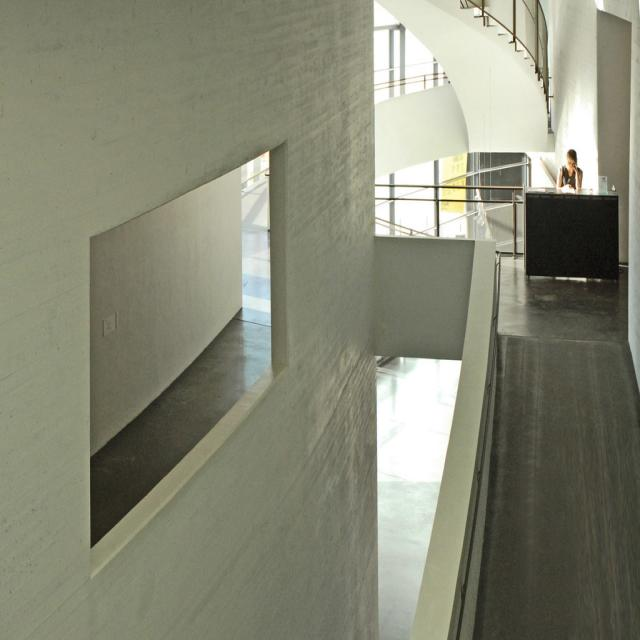desk: (515, 180, 626, 288)
person: (556, 150, 583, 192)
